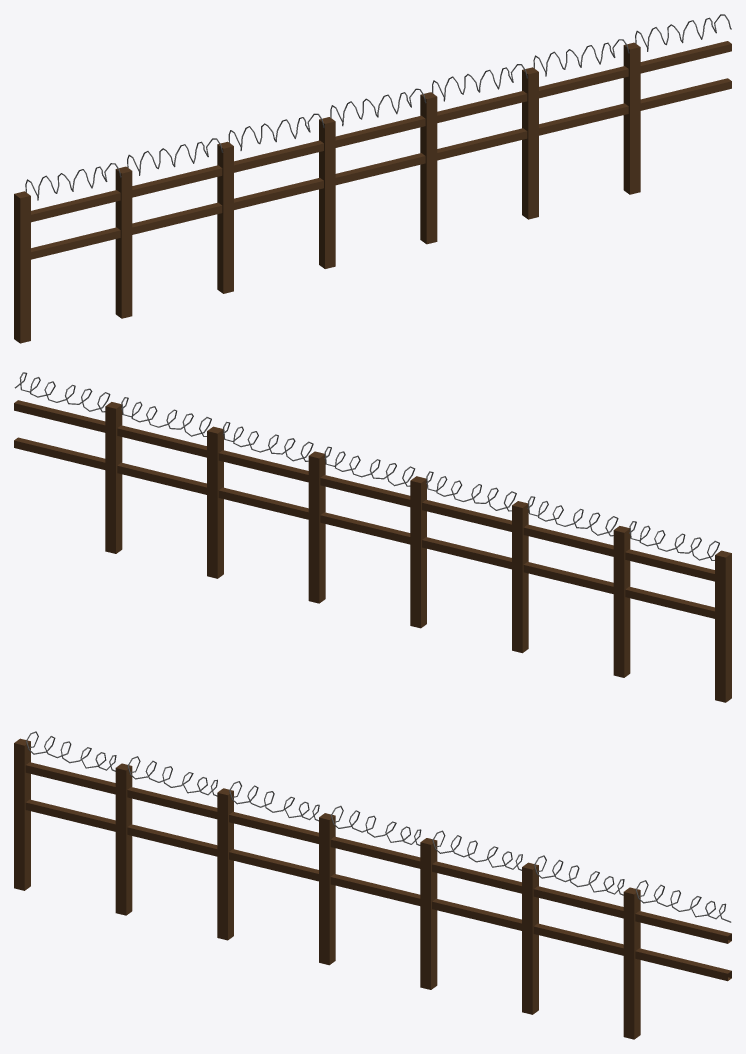
The model's file is fence.fbx.
The picture shows the model from 3 angles, top to bottom: view 1: azimuth 30°, elevation 25°; view 2: azimuth 150°, elevation 25°; view 3: azimuth 330°, elevation 25°; orthographic projection.
Visible parts, largest first — view 1: Cube; view 2: Cube; view 3: Cube.
Boxes of the visible parts, bbox=[...] form: Cube: bbox=[14, 14, 731, 343]; Cube: bbox=[14, 372, 731, 702]; Cube: bbox=[14, 731, 731, 1039].
Size of the model in its own units: 1793 by 375 by 52.
